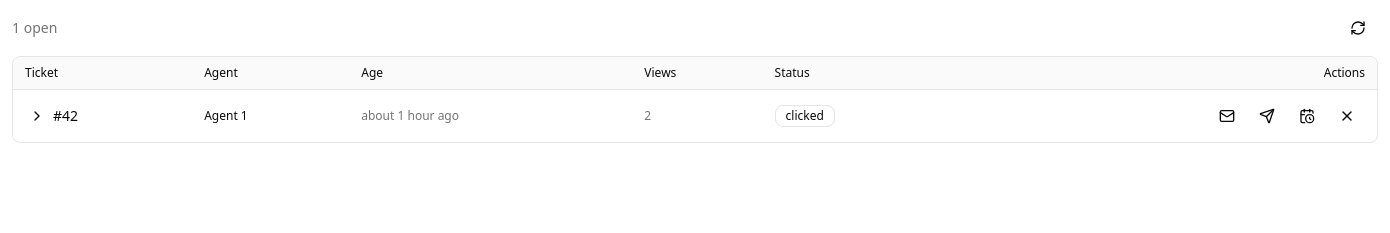
Test: OutstandingRequests link lifecycle › expands a row to list the audit trail
Click the button named "Show link activity for ticket 42": click(37, 116) [25,104,49,128]
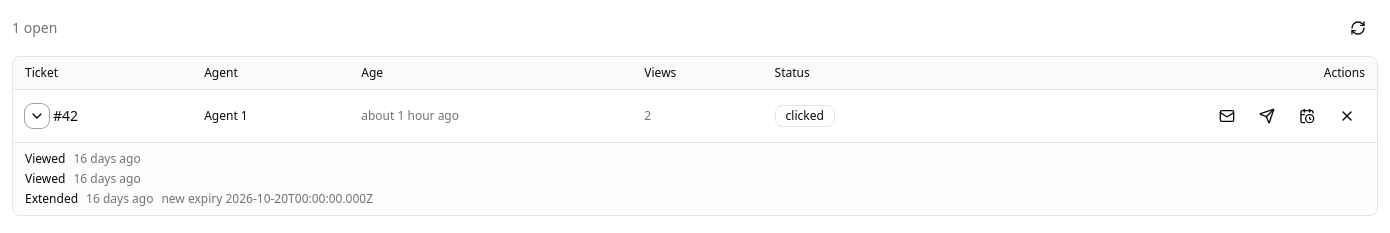
Expected: the text "Viewed" is shown 2 times, [25,151,65,167]; [25,171,65,187]
Expected: the text "Extended" is shown, [25,191,78,207]
Expected: the text "new expiry 2026-10-20T00:00:00.000Z" is shown, [161,191,373,207]
# Collapsing hides the trail without refetching.
Click the button named "Show link activity for ticket 42": click(37, 116) [25,104,49,128]
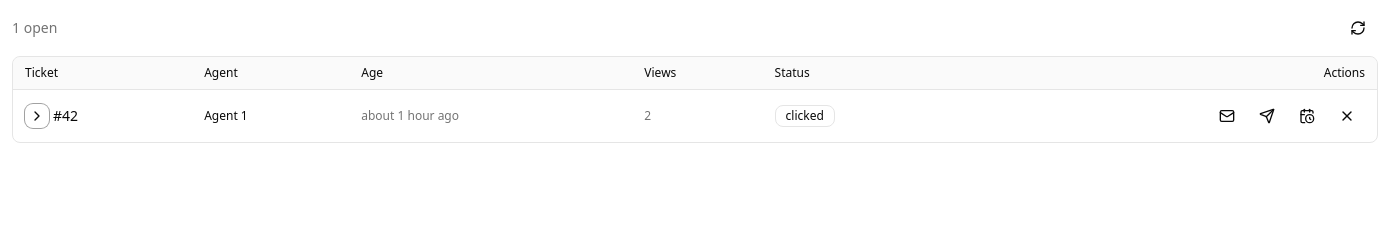
Expected: the text "Extended" is gone
